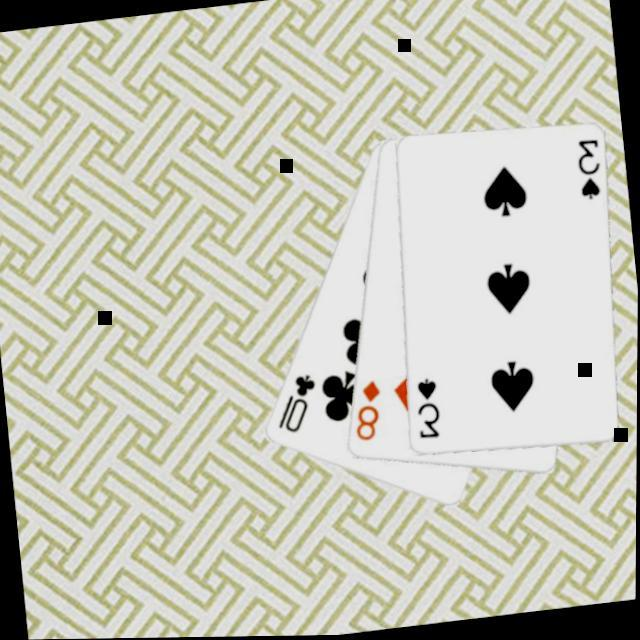10C: (270, 371, 324, 441)
3S: (410, 377, 446, 446), (572, 138, 607, 207)
8D: (348, 379, 388, 448)
